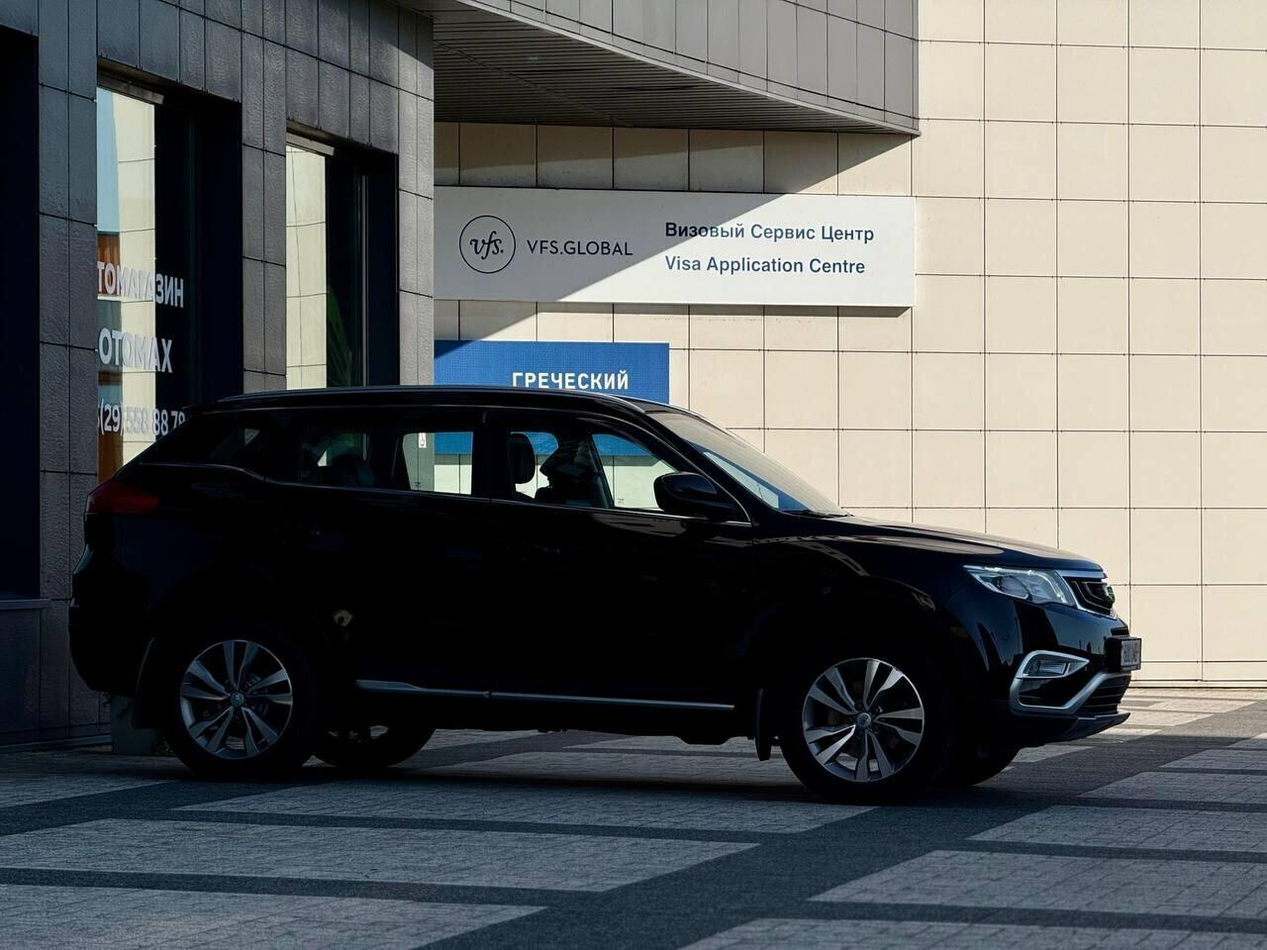Atlas_2016-2023: (66, 383, 1146, 797)
